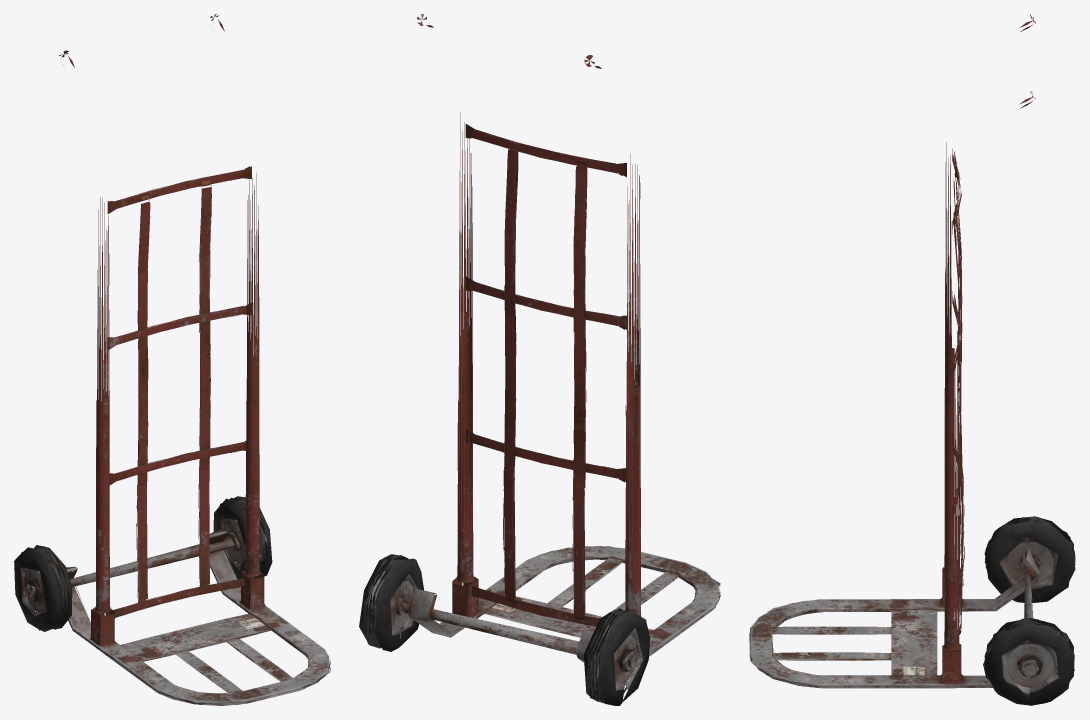
File: hand_truck.glb
3 views of the same model, side by side, from view 1: azimuth 30°, elevation 25°; view 2: azimuth 150°, elevation 25°; view 3: azimuth 270°, elevation 25° (orthographic). The views are drawn at different scales.
Visible parts, largest first — view 1: hand_truck; view 2: hand_truck; view 3: hand_truck.
Boxes of the visible parts, bbox=[...] form: hand_truck: bbox=[14, 14, 330, 705]; hand_truck: bbox=[359, 14, 720, 705]; hand_truck: bbox=[749, 14, 1075, 705].
Bounding box in the file's own units: 0.5933 × 1.41 × 0.6932.
Materials: 1 (1 with a texture image).
